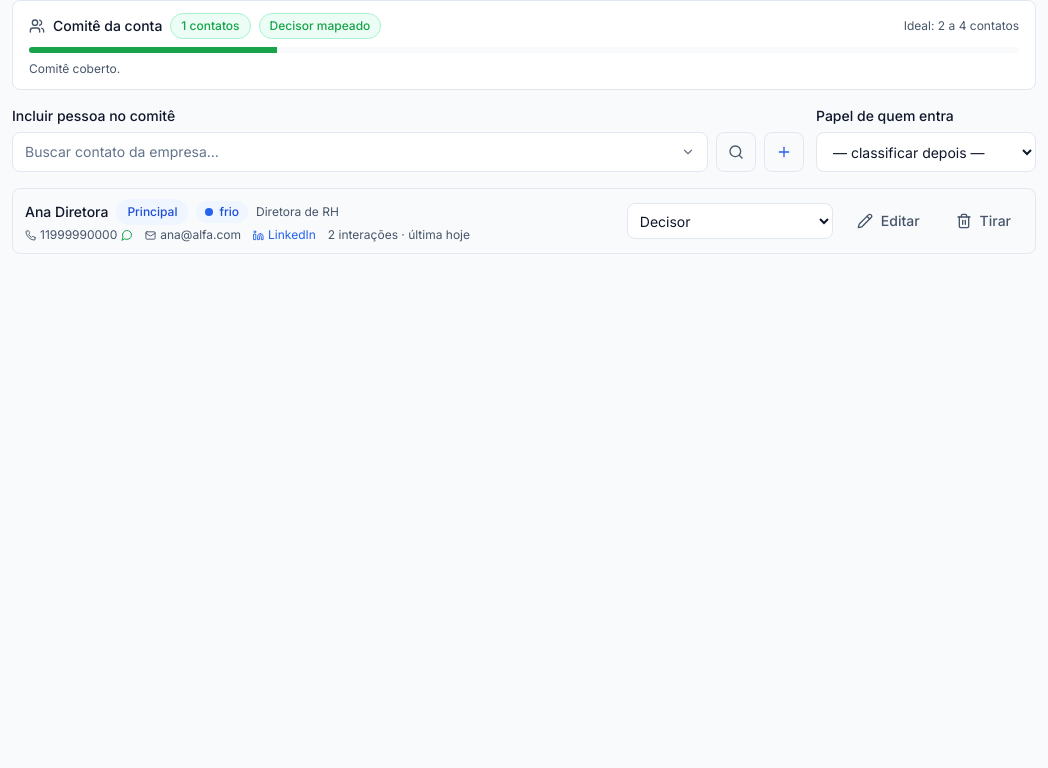
Scenario: AbaContatos › editar abre o formulário no lugar com o cargo do vínculo
Click the button with aria-label "Editar Ana Diretora".
click(888, 221)  # box x1=845 y1=203 x2=932 y2=239
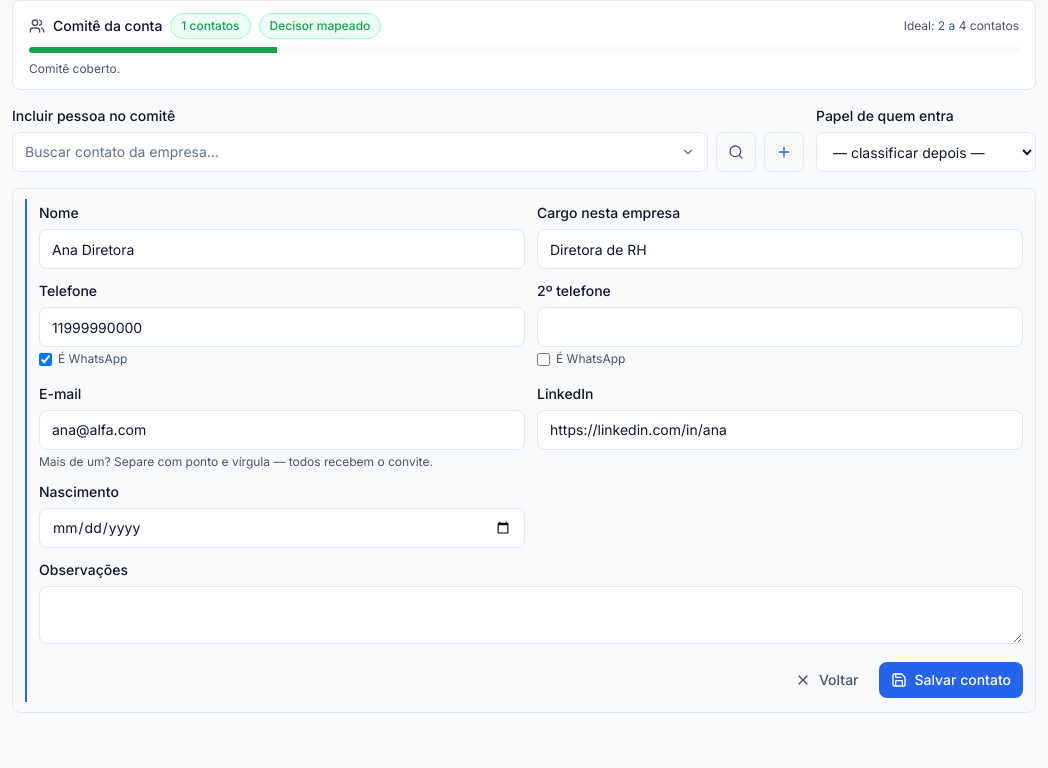
Expected: the field labelled "Cargo nesta empresa" holds "Diretora de RH", x1=537 y1=229 x2=1023 y2=269
Expected: the field labelled "Telefone" holds "11999990000", x1=39 y1=307 x2=525 y2=347
